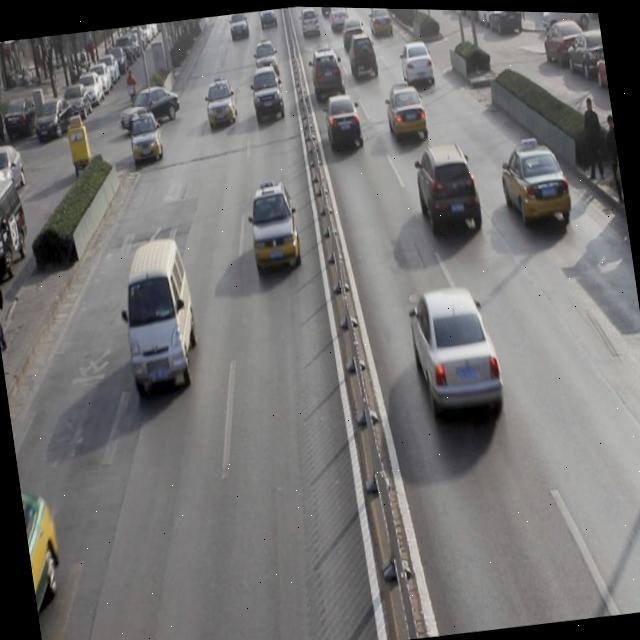car: (404, 280, 510, 429), (498, 136, 576, 238), (21, 488, 73, 640), (416, 140, 486, 243), (244, 178, 306, 277), (384, 80, 430, 145), (322, 89, 363, 153), (249, 65, 287, 126), (128, 111, 166, 169), (308, 46, 345, 104), (203, 77, 240, 130), (399, 39, 438, 89), (253, 39, 282, 86), (348, 32, 377, 78), (226, 11, 250, 41)
truck: (117, 239, 205, 397)
